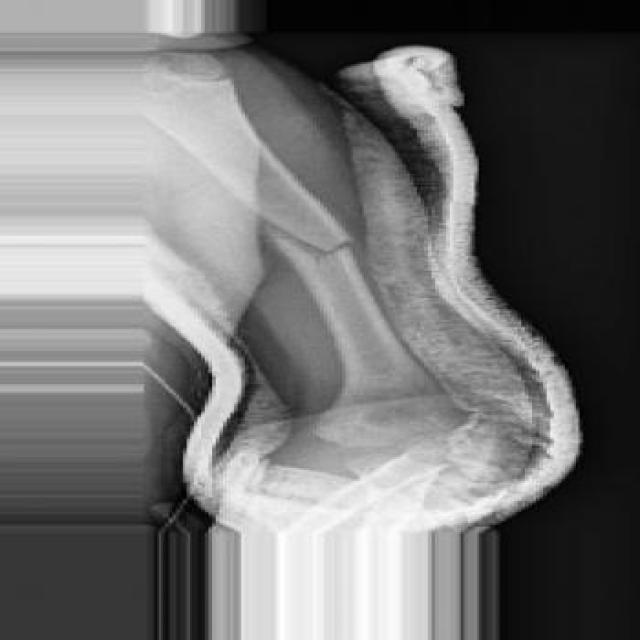Fracture: (273, 218, 362, 268)
